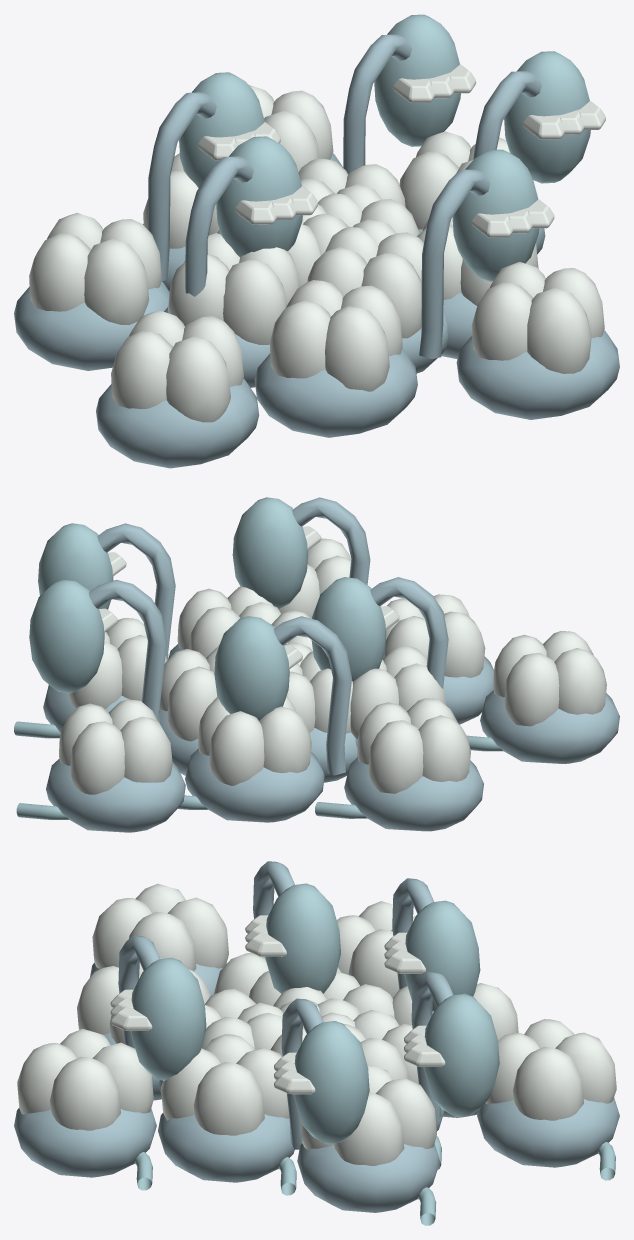
Rendered from bio_oxygen_reef_18_far.glb.
The picture shows the model from 3 angles, top to bottom: view 1: azimuth 30°, elevation 25°; view 2: azimuth 150°, elevation 25°; view 3: azimuth 270°, elevation 25°; orthographic projection. The views are drawn at different scales.
Visible parts, largest first — view 1: Lobed gas sac.028, Lobed gas sac.040, Lobed gas sac.048, Lobed gas sac.036, Lobed gas sac.016, Photosynthetic cushion.007, Photosynthetic cushion.012, Photosynthetic cushion.010, Lobed gas sac.008, Pendant spore capsule.003, Pendant spore capsule, Pendant spore capsule.002 (+23 smaller); view 2: Lobed gas sac.036, Lobed gas sac.048, Lobed gas sac.044, Lobed gas sac.024, Pendant spore capsule.003, Pendant spore capsule.002, Pendant spore capsule.001, Photosynthetic cushion.011, Photosynthetic cushion.009, Photosynthetic cushion.012, Photosynthetic cushion.006, Pendant spore capsule.004 (+21 smaller); view 3: Lobed gas sac.040, Lobed gas sac.044, Lobed gas sac.020, Lobed gas sac.048, Pendant spore capsule, Pendant spore capsule.003, Pendant spore capsule.002, Photosynthetic cushion.008, Photosynthetic cushion.010, Photosynthetic cushion.011, Lobed gas sac.032, Photosynthetic cushion.005 (+25 smaller).
Part boxes in pixels (box(x1,y1,x2,y2)): Lobed gas sac.028: box(269, 280, 402, 391); Lobed gas sac.040: box(471, 262, 604, 373); Lobed gas sac.048: box(111, 310, 243, 422); Lobed gas sac.036: box(29, 213, 162, 324); Lobed gas sac.016: box(168, 233, 299, 344); Photosynthetic cushion.007: box(254, 348, 417, 437); Photosynthetic cushion.012: box(96, 379, 259, 468); Photosynthetic cushion.010: box(456, 330, 619, 419); Lobed gas sac.008: box(307, 226, 423, 338); Pendant spore capsule.003: box(374, 14, 460, 146); Pendant spore capsule: box(504, 51, 590, 183); Pendant spore capsule.002: box(452, 149, 539, 281); Lobed gas sac.036: box(357, 698, 470, 793); Lobed gas sac.048: box(493, 631, 606, 726); Lobed gas sac.044: box(59, 699, 172, 794); Lobed gas sac.024: box(198, 695, 311, 785); Pendant spore capsule.003: box(29, 579, 104, 693); Pendant spore capsule.002: box(232, 497, 307, 608); Pendant spore capsule.001: box(214, 616, 289, 720); Photosynthetic cushion.011: box(46, 758, 185, 832); Photosynthetic cushion.009: box(344, 757, 483, 831); Photosynthetic cushion.012: box(480, 690, 619, 763); Photosynthetic cushion.006: box(185, 748, 324, 822); Pendant spore capsule.004: box(311, 577, 386, 681); Lobed gas sac.040: box(17, 1028, 153, 1130); Lobed gas sac.044: box(485, 1019, 616, 1120); Lobed gas sac.020: box(161, 1034, 289, 1135); Lobed gas sac.048: box(92, 883, 228, 970); Pendant spore capsule: box(293, 1021, 369, 1144); Pendant spore capsule.003: box(423, 993, 499, 1117); Pendant spore capsule.002: box(130, 957, 206, 1080); Photosynthetic cushion.008: box(297, 1143, 439, 1212); Photosynthetic cushion.010: box(14, 1108, 156, 1177); Photosynthetic cushion.011: box(477, 1097, 619, 1167); Lobed gas sac.032: box(300, 1064, 436, 1165); Photosynthetic cushion.005: box(158, 1113, 294, 1182).
Size of the model in its own units: 2.06 by 0.7758 by 2.03.
